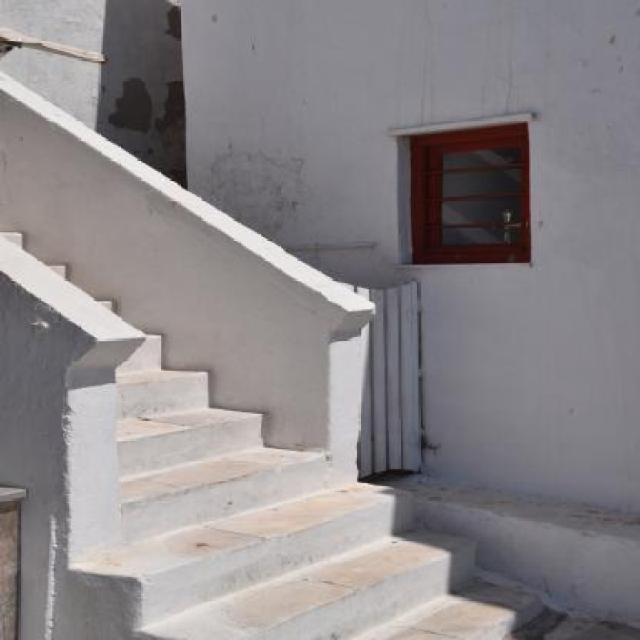stair: (0, 231, 549, 640)
